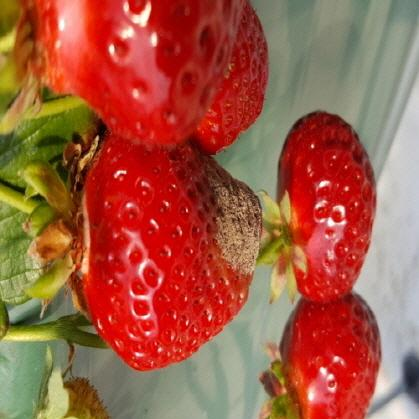Gray Mold: (196, 153, 262, 284)
